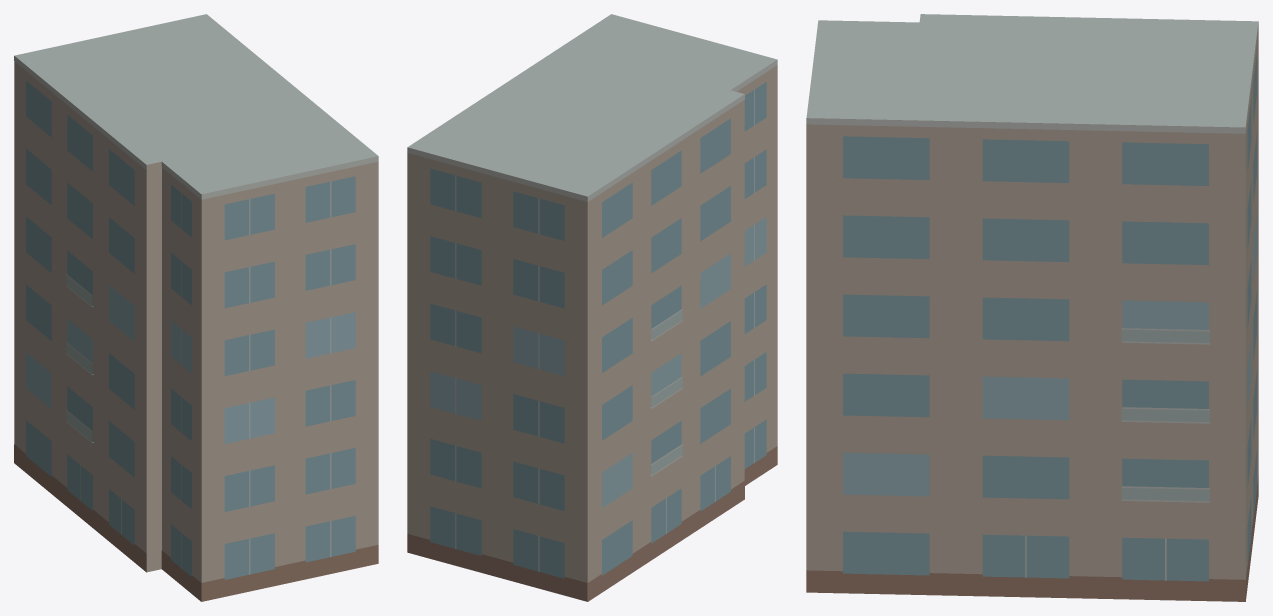
File: survey-upis-33002364.glb
The picture shows the model from 3 angles, left to right: view 1: azimuth 30°, elevation 25°; view 2: azimuth 150°, elevation 25°; view 3: azimuth 270°, elevation 25°; orthographic projection. The views are drawn at different scales.
Parts seen in each view (by area): view 1: survey-upis-33002364.tmp; view 2: survey-upis-33002364.tmp; view 3: survey-upis-33002364.tmp.
Boxes of the visible parts, box(x1,y1,x2,y2) form: survey-upis-33002364.tmp: box(14, 14, 378, 601); survey-upis-33002364.tmp: box(407, 14, 777, 601); survey-upis-33002364.tmp: box(806, 14, 1258, 601).
Bounding box in the file's own units: 9.4 × 18.3 × 15.81.
